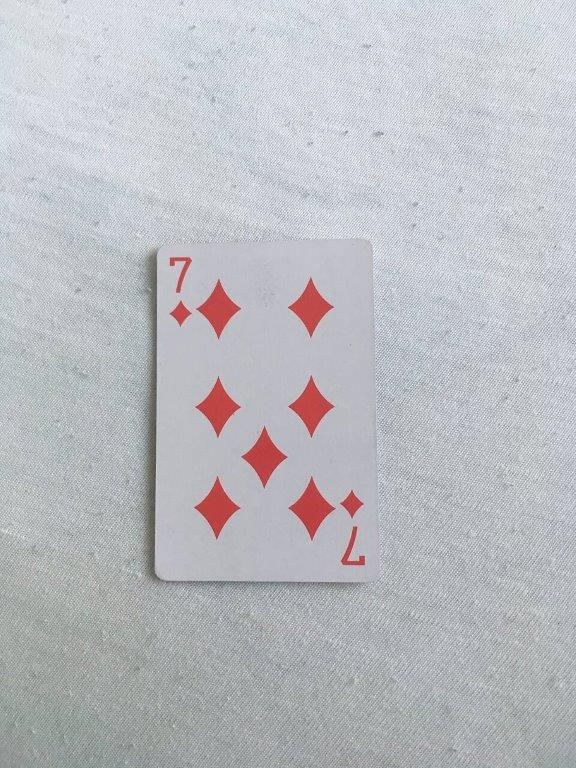7D: (151, 236, 382, 587)
